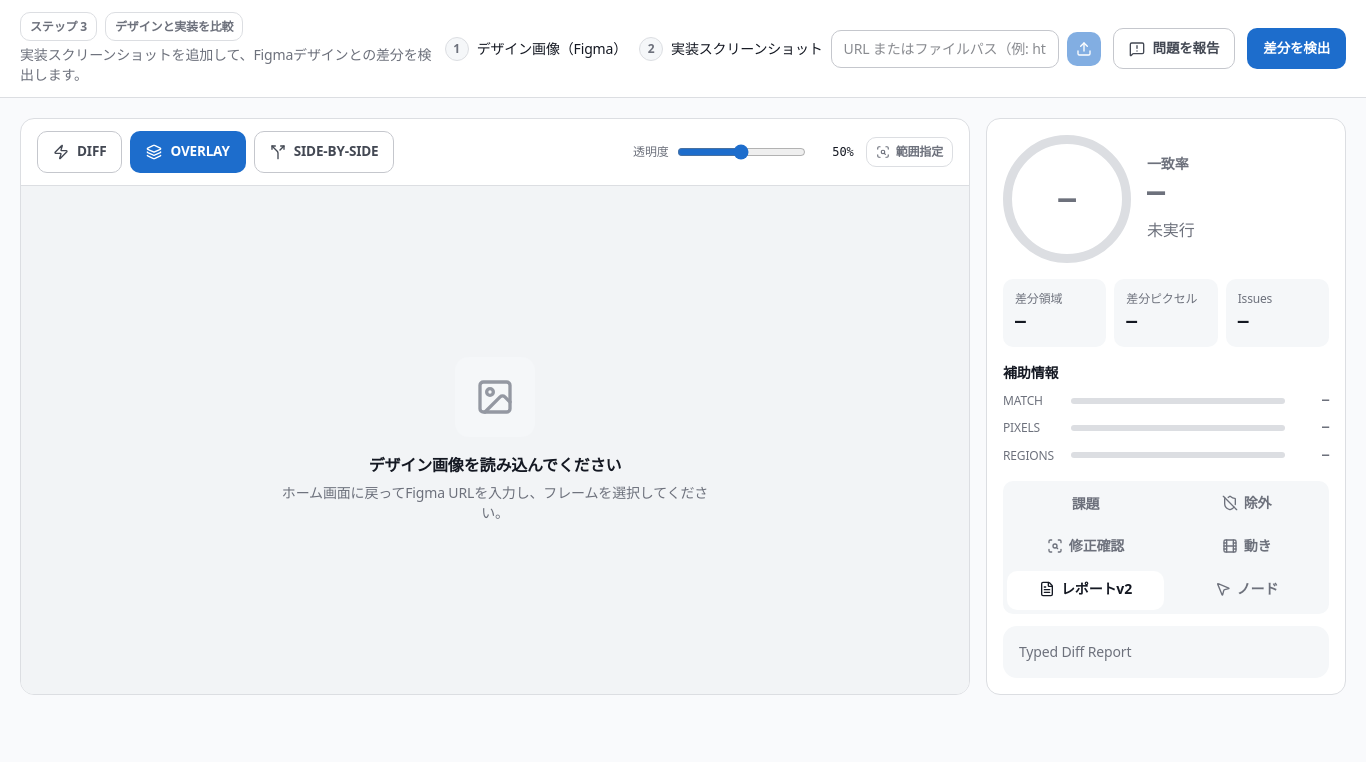
ComparePage › 修正確認タブから一時baseline導線へ到達できる
What coordinates should you click on to do the following:
click the button "修正確認"
I would click on:
 (1086, 547)
Its box is [1007,528,1164,567].
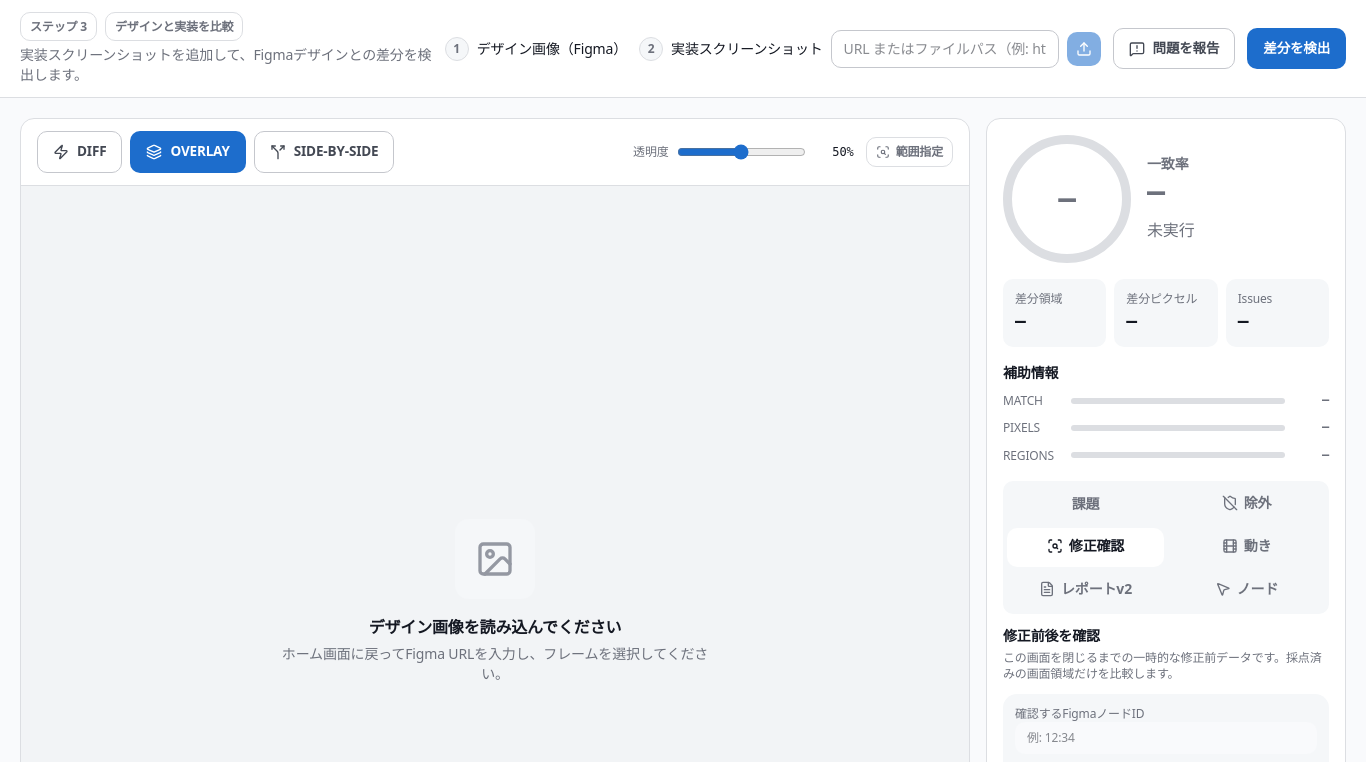
Result: the heading "修正前後を確認" is shown at [1003,626,1100,645]
Result: the text "この画面を閉じるまでの一時的な修正前データです。採点済みの画面領域だけを比較します。" is shown at [1003,650,1329,682]
